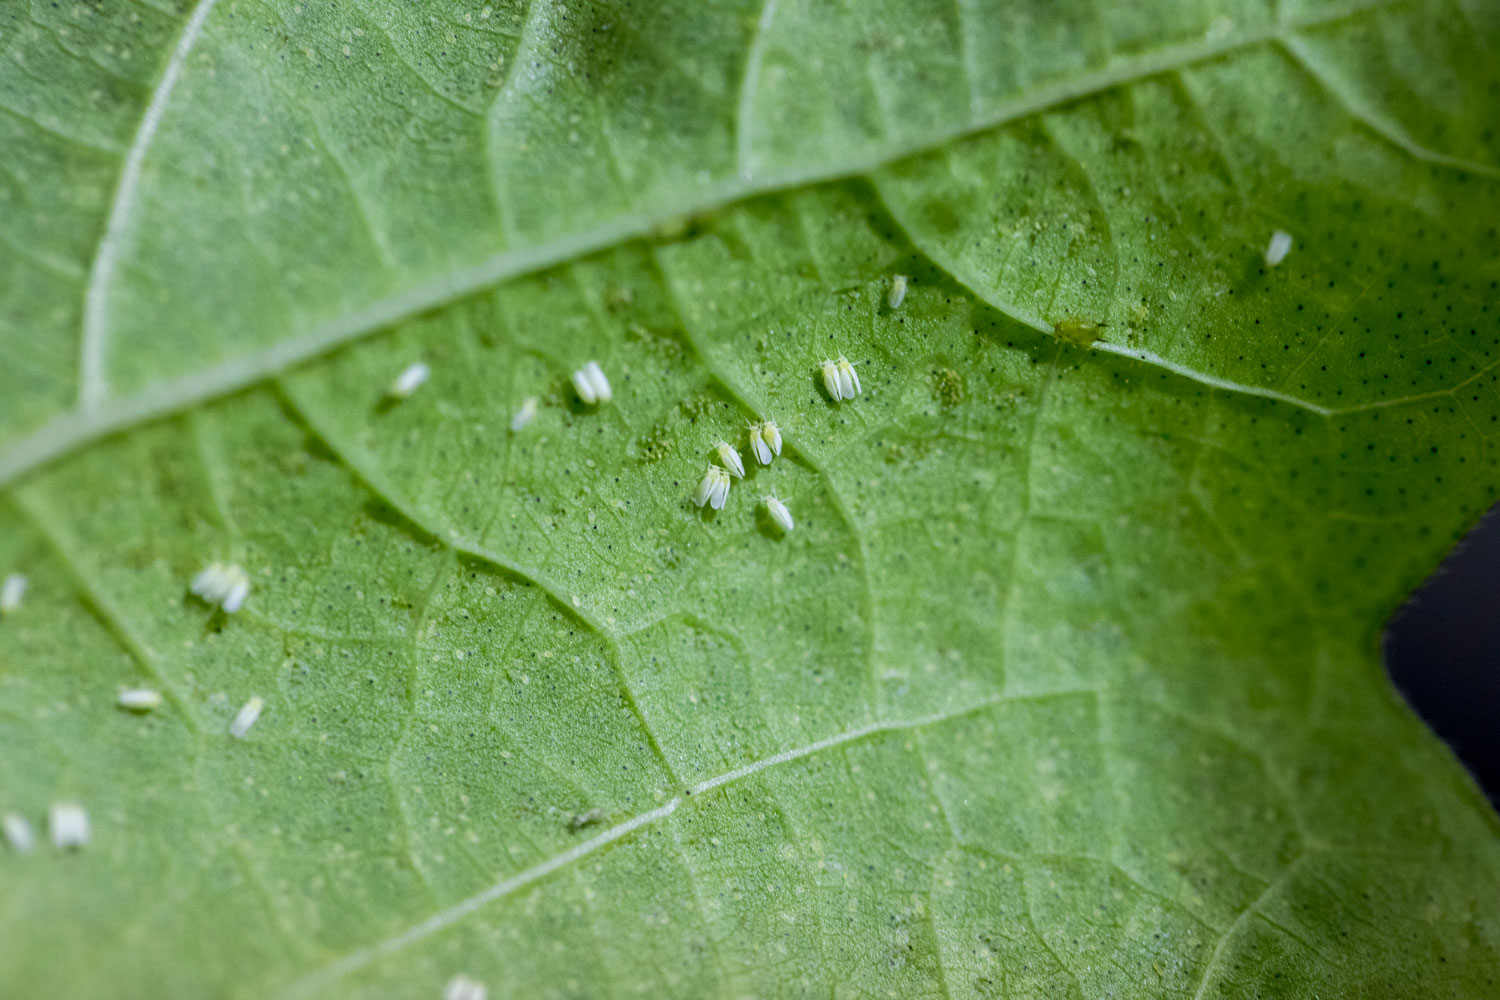Tobacco Whitefly: (788, 345, 877, 411), (582, 353, 637, 443), (755, 410, 802, 503), (688, 461, 738, 505)
